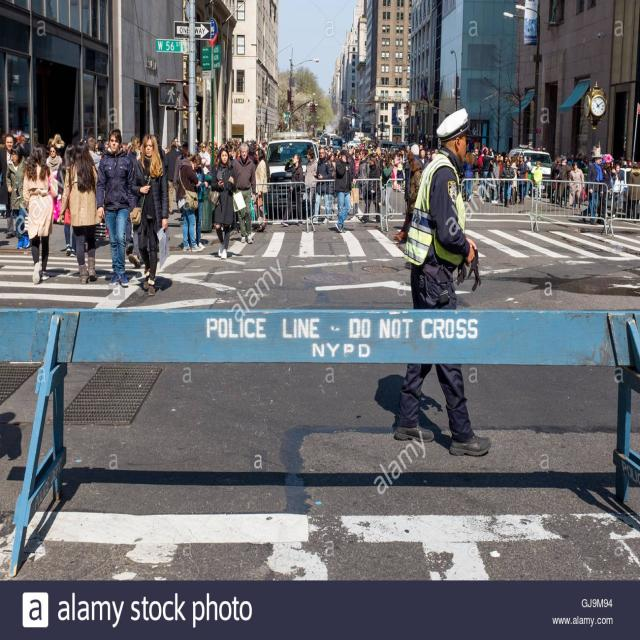body: (387, 103, 494, 457), (157, 125, 446, 224), (0, 131, 158, 247), (482, 150, 624, 208), (54, 138, 105, 286), (94, 127, 139, 287), (367, 362, 447, 451), (128, 133, 170, 297), (37, 262, 177, 302), (20, 143, 54, 287), (210, 145, 236, 261), (176, 150, 204, 254), (6, 144, 32, 250), (561, 209, 640, 243), (231, 142, 256, 245), (402, 143, 426, 241), (332, 149, 357, 234), (579, 147, 604, 226), (356, 154, 384, 224), (310, 145, 333, 226), (280, 152, 304, 228), (0, 407, 24, 478), (0, 133, 16, 239), (45, 142, 63, 225), (193, 153, 208, 250), (253, 147, 268, 220), (304, 147, 318, 225), (381, 153, 396, 220), (624, 162, 640, 224), (555, 154, 572, 209), (568, 161, 585, 208), (480, 146, 495, 199), (500, 160, 516, 208), (488, 153, 501, 204), (463, 152, 476, 202), (358, 150, 371, 200), (515, 154, 527, 206), (522, 154, 534, 198), (470, 147, 480, 198), (532, 161, 544, 201), (207, 247, 246, 258), (509, 162, 518, 206), (614, 162, 625, 195), (415, 148, 430, 171), (198, 143, 211, 166), (164, 85, 178, 104), (424, 149, 433, 163)
